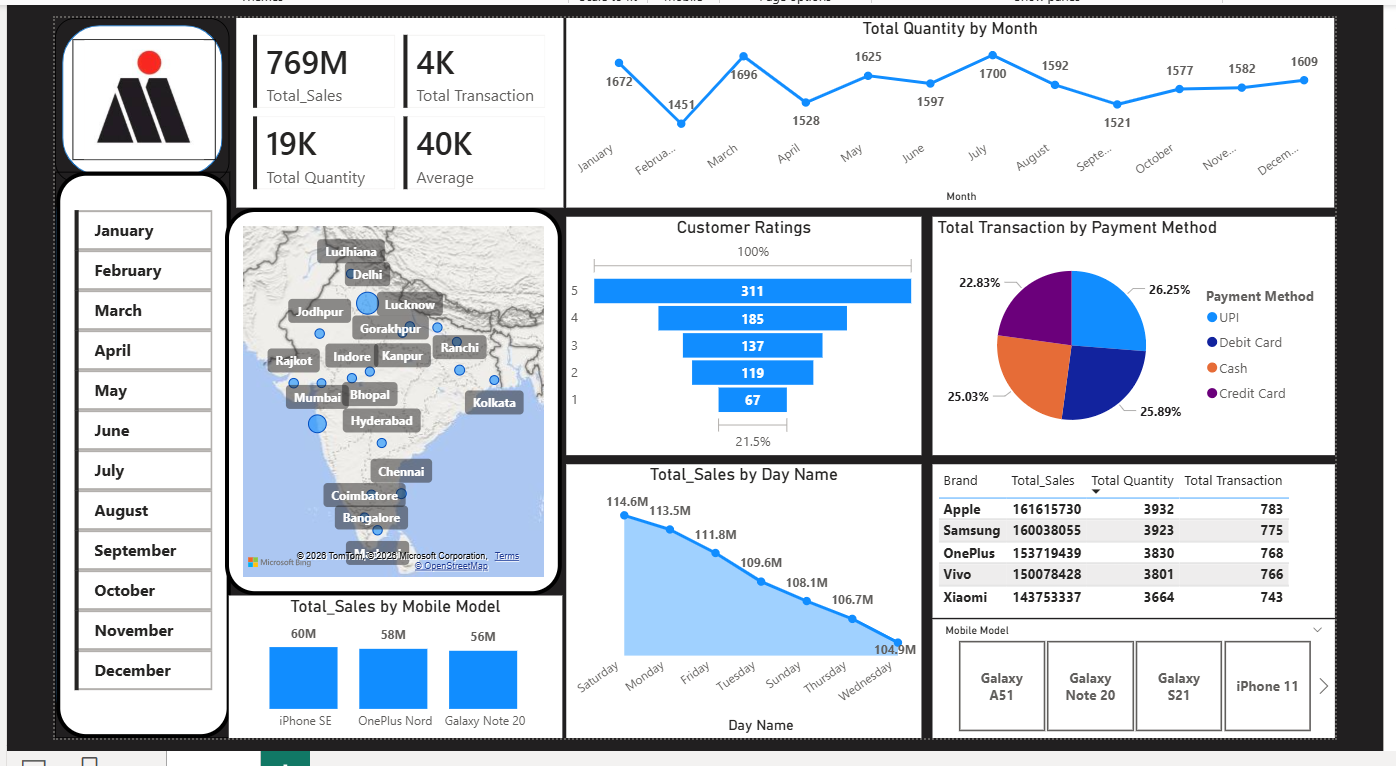

The page's visual inventory and layout, read from the dashboard file:
{"tool":"powerbi","page":{"name":"Page 1","canvas":[1280,720],"ordinal":0},"visuals":[{"type":"shape","box":[0,0,174.4,164.1],"z":0},{"type":"shape","box":[0,154.1,174.9,566.2],"z":1000},{"type":"image","box":[17.1,20.8,143.1,121.1],"z":2000},{"type":"listSlicer","fields":{"Values":["Sales_Data.Date.Variation.Date Hierarchy.Month"]},"box":[1.3,153.8,174.4,566.7],"z":3000},{"type":"cardVisual","fields":{"Data":["Sales_Data.Total_Sales","Sales_Data.Total Transaction","Sales_Data.Total Quantity","Sales_Data.Average"]},"box":[180.8,0,326.9,189.7],"z":4000},{"type":"map","fields":{"Category":["Sales_Data.City"],"Size":["Sales_Data.Total_Sales"]},"box":[170.5,189.7,337.2,387.2],"z":5000},{"type":"clusteredColumnChart","fields":{"Y":["Sales_Data.Total_Sales"],"Category":["Sales_Data.Mobile Model"]},"box":[174.4,576.9,333.3,143.6],"z":7000},{"type":"pieChart","fields":{"Y":["Sales_Data.Total Transaction"],"Category":["Sales_Data.Payment Method"]},"box":[876.9,198.7,402.6,238.5],"z":8000},{"type":"funnel","title":"Customer Ratings ","fields":{"Category":["Sales_Data.Customer Ratings"],"Y":["CountNonNull(Sales_Data.Customer Ratings)"]},"box":[511.5,198.7,355.1,238.5],"z":9000},{"type":"areaChart","fields":{"Category":["Sales_Data.Day Name"],"Y":["Sales_Data.Total_Sales"]},"box":[511.5,446.2,355.1,274.4],"z":10000},{"type":"tableEx","fields":{"Values":["Sales_Data.Brand","Sales_Data.Total_Sales","Sales_Data.Total Quantity","Sales_Data.Total Transaction"]},"box":[876.9,446.2,402.6,153.8],"z":11000},{"type":"slicer","fields":{"Values":["Sales_Data.Mobile Model"]},"box":[876.9,601.3,402.6,119.2],"z":11001},{"type":"lineChart","fields":{"Y":["Sales_Data.Total Quantity"],"Category":["Sales_Data.Date.Variation.Date Hierarchy.Month"]},"box":[511.5,0,767.9,189.7],"z":11002}]}

Visuals, with their boxes in screenshot pixels (x1, y1, x2, y2):
shape: bbox(44, 11, 220, 177)
shape: bbox(44, 167, 221, 741)
image: bbox(61, 32, 206, 155)
listSlicer - Sales_Data.Date.Variation.Date Hierarchy.Month: bbox(45, 167, 222, 741)
cardVisual - Sales_Data.Total_Sales x Sales_Data.Total Transaction: bbox(227, 11, 558, 203)
map - Sales_Data.City x Sales_Data.Total_Sales: bbox(216, 203, 558, 596)
clusteredColumnChart - Sales_Data.Total_Sales x Sales_Data.Mobile Model: bbox(220, 596, 558, 741)
pieChart - Sales_Data.Total Transaction x Sales_Data.Payment Method: bbox(932, 212, 1340, 454)
"Customer Ratings " funnel: bbox(562, 212, 922, 454)
areaChart - Sales_Data.Day Name x Sales_Data.Total_Sales: bbox(562, 463, 922, 741)
tableEx - Sales_Data.Brand x Sales_Data.Total_Sales: bbox(932, 463, 1340, 619)
slicer - Sales_Data.Mobile Model: bbox(932, 620, 1340, 741)
lineChart - Sales_Data.Total Quantity x Sales_Data.Date.Variation.Date Hierarchy.Month: bbox(562, 11, 1340, 203)
